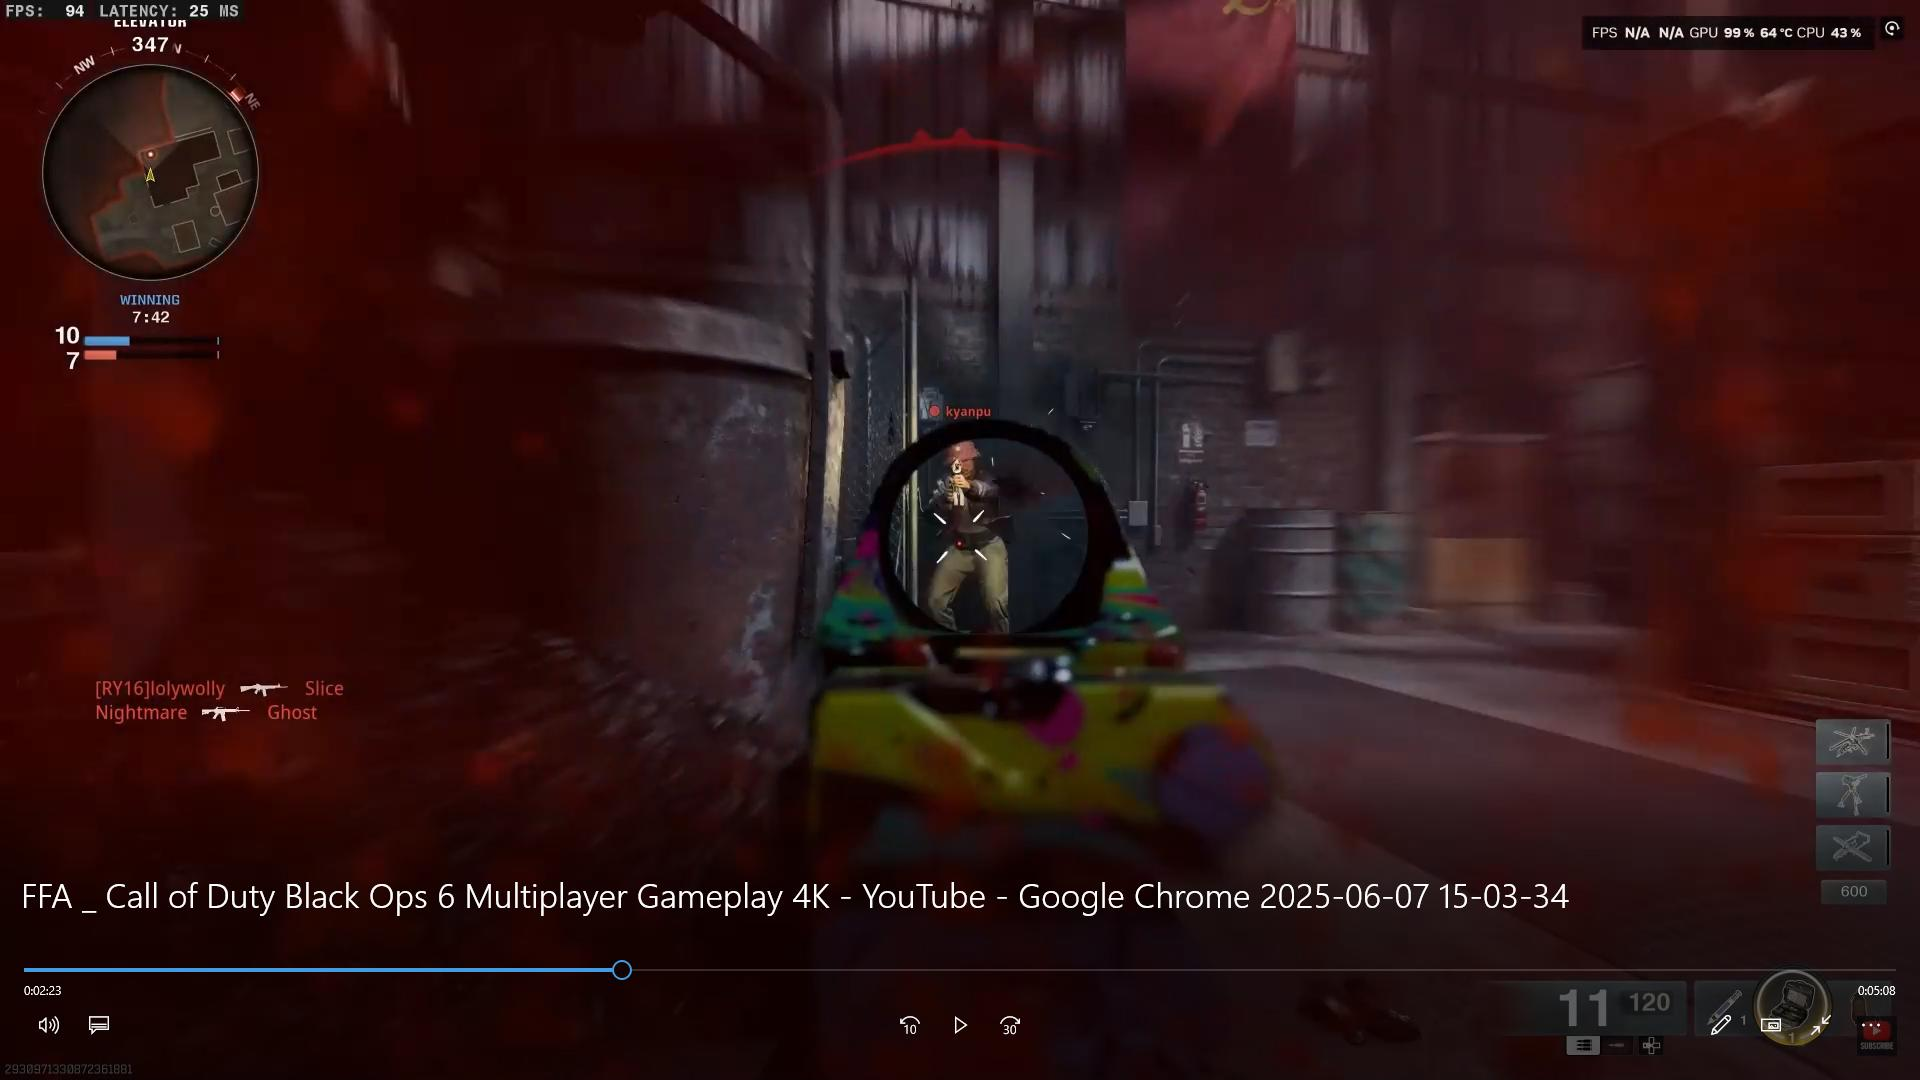Enemy: (926, 438, 1021, 626)
